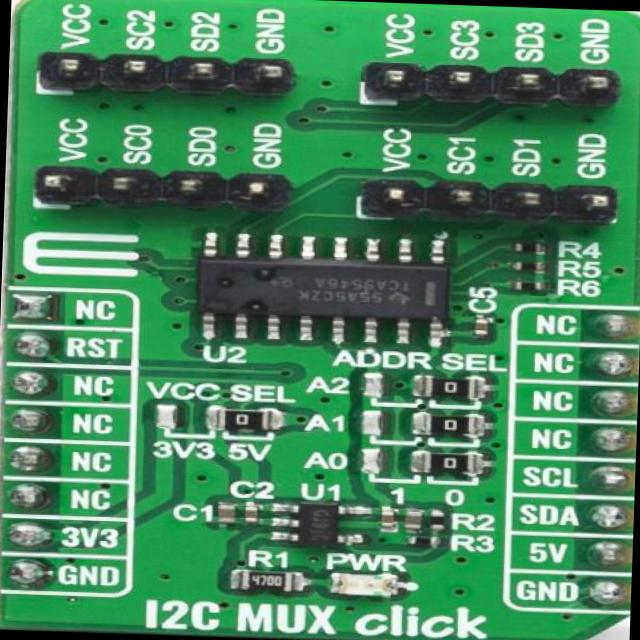IC: (200, 242, 454, 338), (273, 498, 353, 550)
LED: (328, 574, 400, 602)
capacitor: (212, 501, 235, 528), (242, 503, 264, 525), (382, 509, 396, 532), (408, 510, 422, 533), (470, 320, 488, 336)
connector: (360, 63, 632, 114), (368, 177, 621, 226), (31, 52, 299, 96), (38, 164, 291, 210)
resistor: (212, 400, 285, 436), (419, 376, 485, 400), (424, 413, 478, 439), (230, 572, 300, 592), (422, 454, 484, 474), (426, 513, 449, 535), (508, 240, 544, 254), (512, 281, 542, 294), (408, 538, 439, 550), (514, 262, 540, 276)
